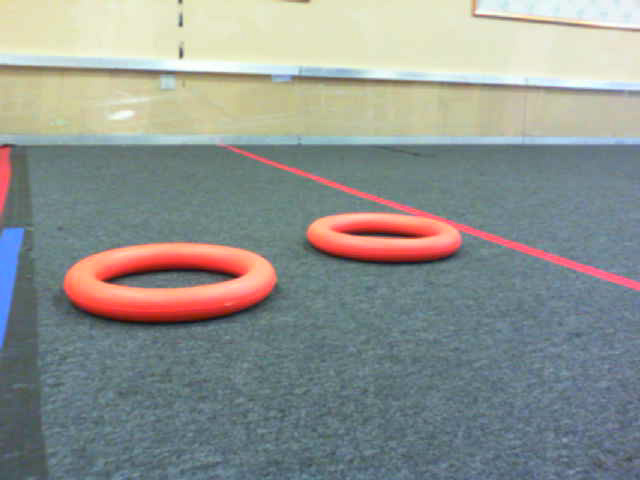Note: (64, 248, 281, 325), (308, 215, 468, 267)
